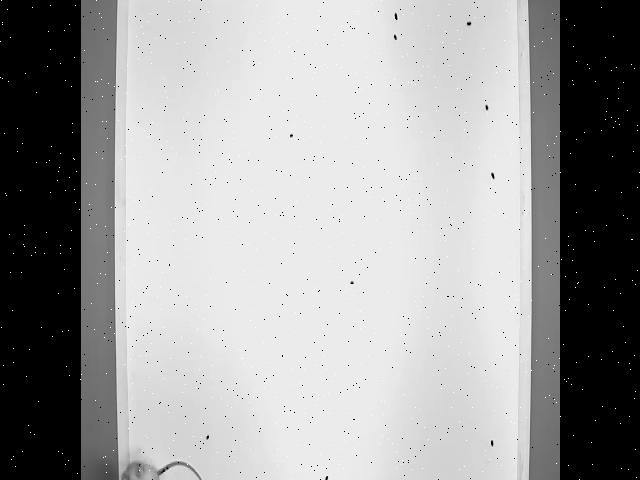Tikus: (117, 451, 207, 480)
